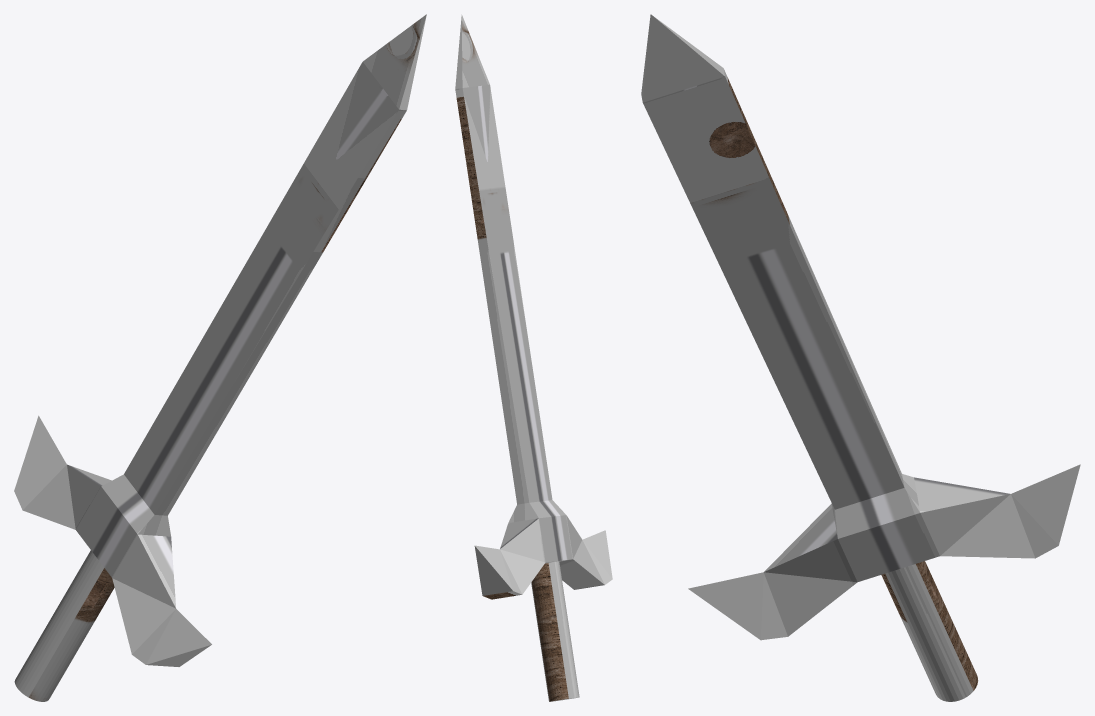
Rendered from Protagonista12.obj.
3 renders of one model, left to right at view 1: azimuth 30°, elevation 25°; view 2: azimuth 150°, elevation 25°; view 3: azimuth 270°, elevation 25°, orthographic. The views are drawn at different scales.
Parts seen in each view (by area): view 1: Cube; view 2: Cube; view 3: Cube.
Boxes of the visible parts, x1=… form: Cube: x1=14, y1=14, x2=426, y2=701; Cube: x1=455, y1=14, x2=612, y2=701; Cube: x1=641, y1=14, x2=1080, y2=701.
Bounding box in the file's own units: 0.6395 × 1.57 × 0.7564.
Materials: 1 (1 with a texture image).
